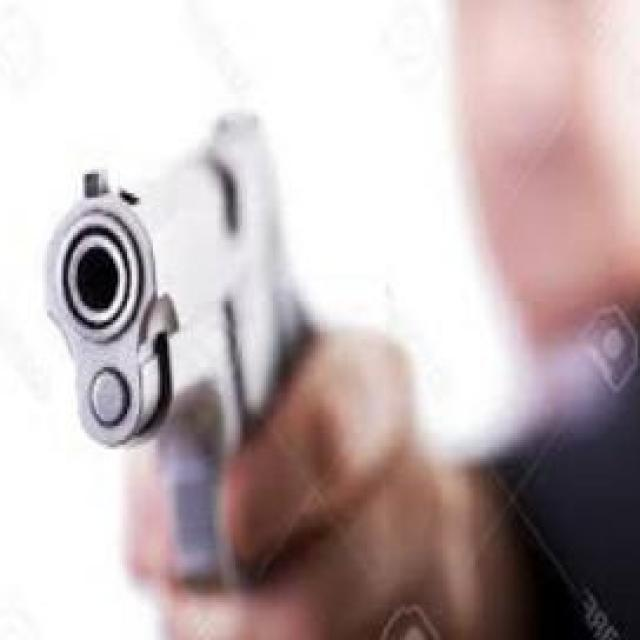pistol: (35, 99, 285, 593)
